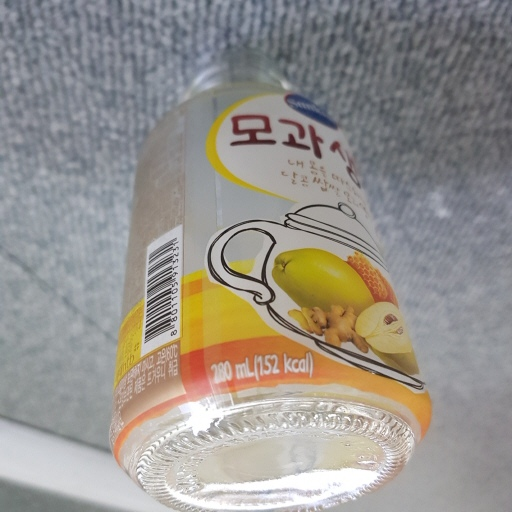Glass_4: (102, 51, 435, 512)
